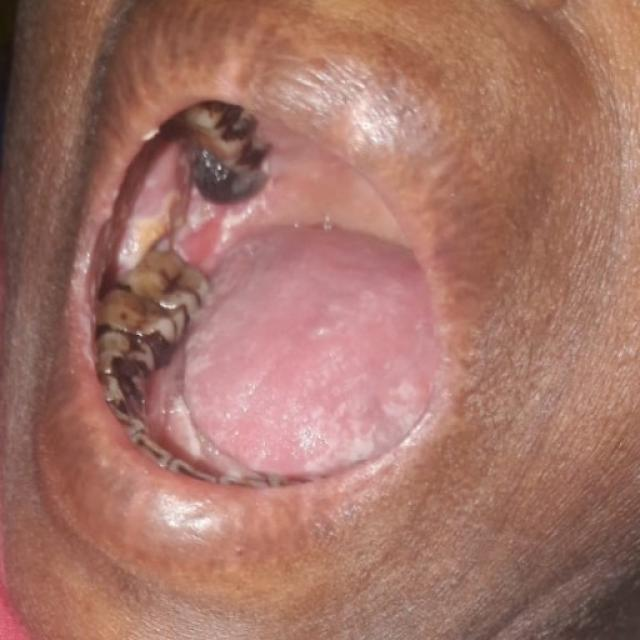cancer-detection: (118, 142, 269, 281)
processing_area: (105, 111, 445, 472)
